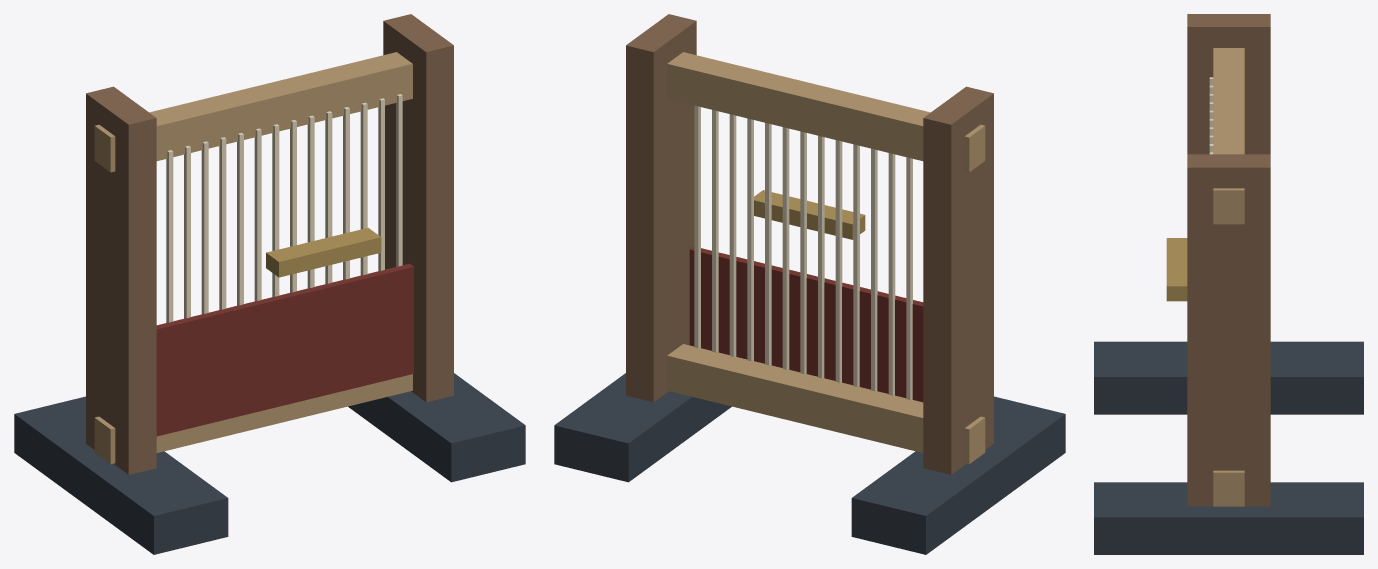
File: var_loom.glb
The picture shows the model from 3 angles, left to right: view 1: azimuth 30°, elevation 25°; view 2: azimuth 150°, elevation 25°; view 3: azimuth 270°, elevation 25°; orthographic projection. The views are drawn at different scales.
Parts seen in each view (by area): view 1: var_loom; view 2: var_loom; view 3: var_loom.
Part boxes in pixels (x1=…): var_loom: x1=14, y1=14, x2=525, y2=554; var_loom: x1=554, y1=14, x2=1065, y2=554; var_loom: x1=1094, y1=14, x2=1363, y2=554.
Bounding box in the file's own units: 2 × 2 × 1.3.
